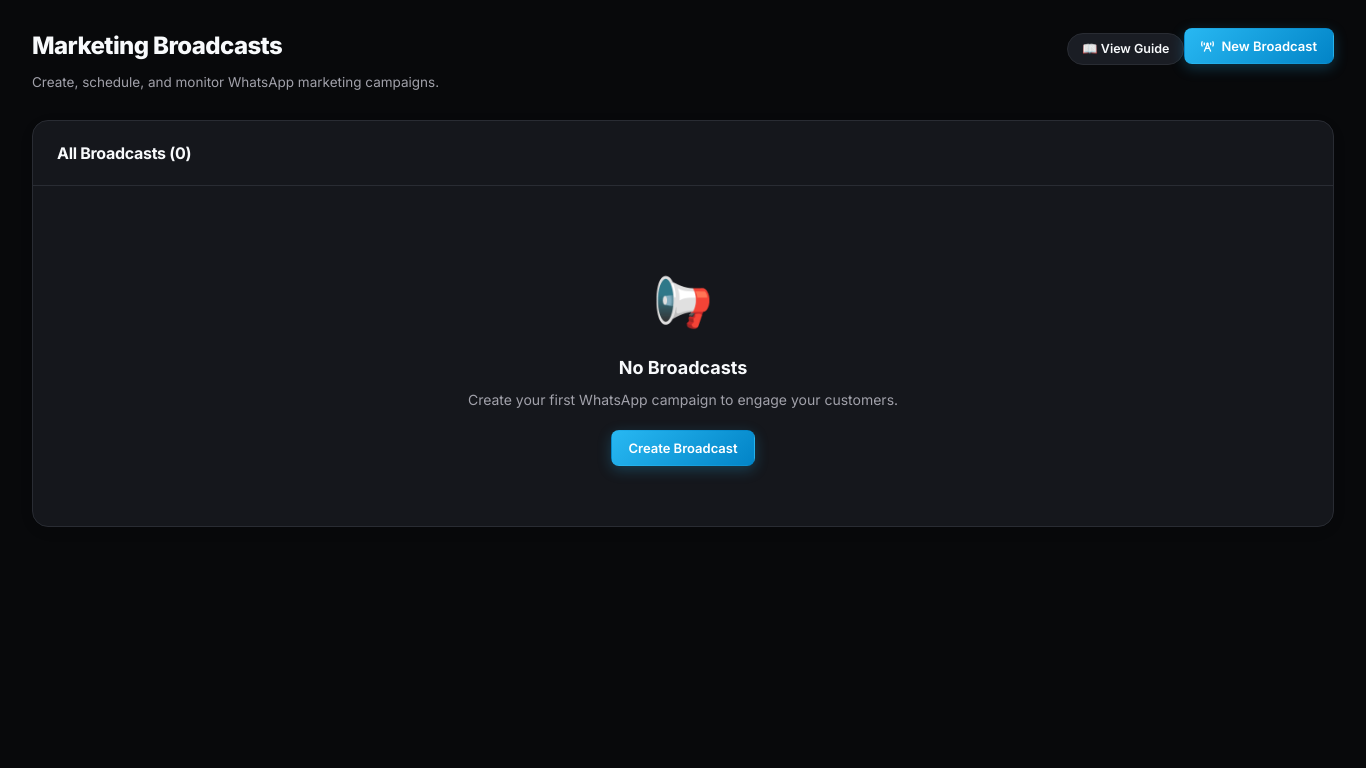
Test: loads approved templates when connected and clears the form after disconnect
Later steps or results of the test are not shown.
Click the button "New Broadcast": (1259, 46) [1184, 28, 1334, 64]
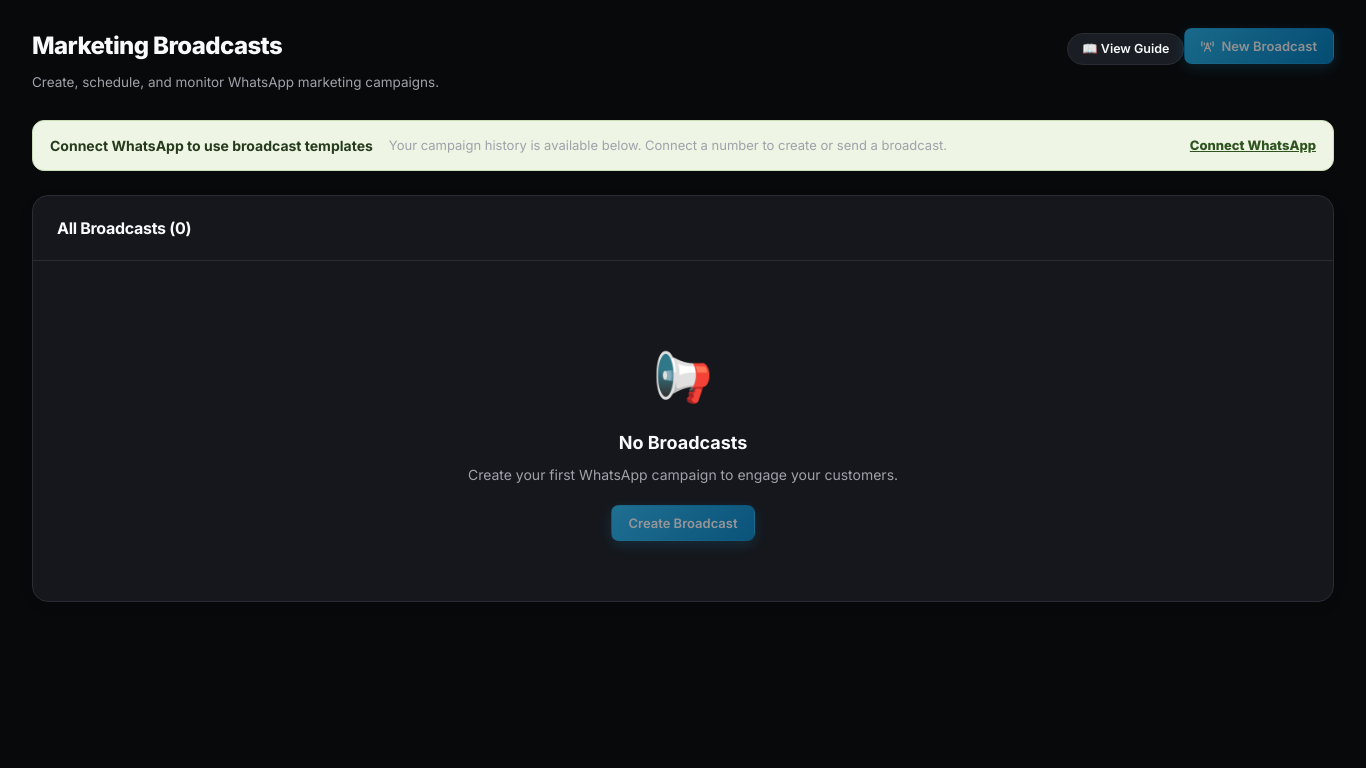
Expected: the text "Connect WhatsApp to use broadcast templates" is shown, [50, 135, 373, 156]
Expected: the button "New Broadcast" is disabled, [1184, 28, 1334, 64]
